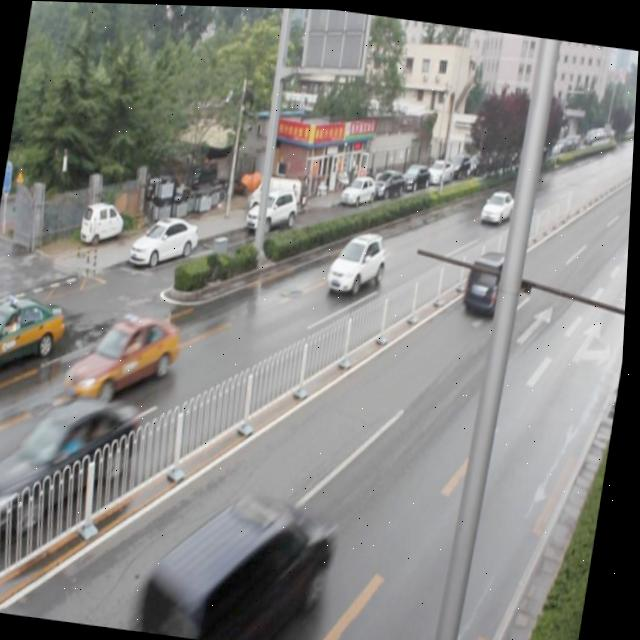car: (0, 387, 148, 550), (65, 305, 185, 413), (326, 225, 390, 298), (479, 182, 518, 225)
truck: (140, 477, 345, 640), (463, 241, 528, 313)
